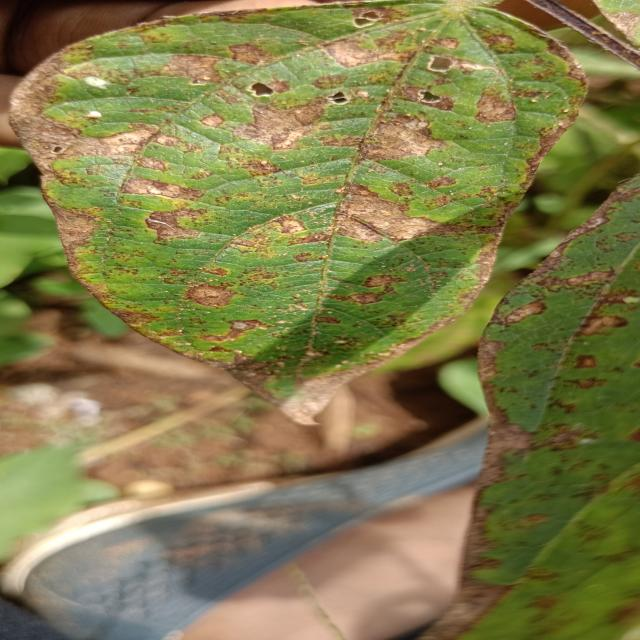Black gram_leaf spot: (0, 0, 601, 434), (450, 204, 640, 640)
